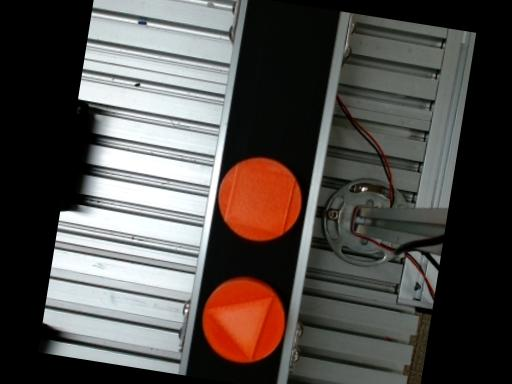Not_Square: (203, 292, 273, 362)
Orange_Waper: (200, 276, 284, 363), (217, 156, 300, 241)
Square: (223, 163, 295, 235)
